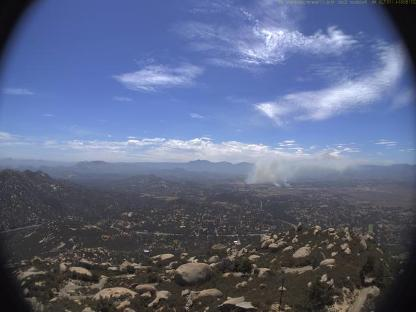smoke: (245, 150, 344, 186)
